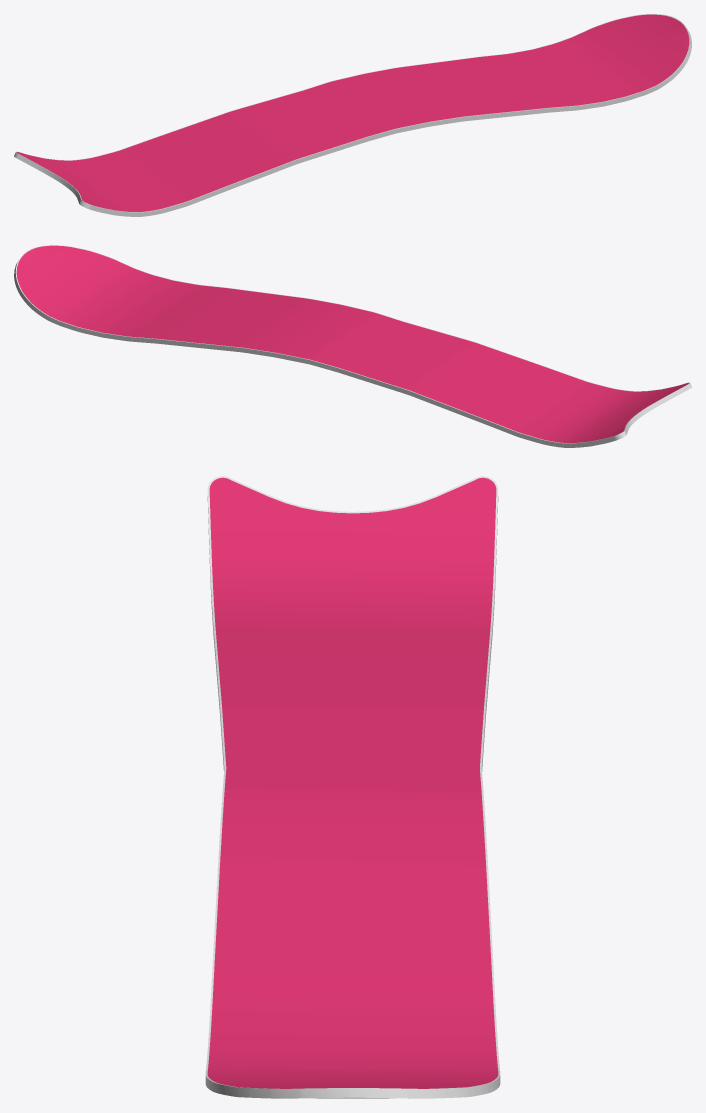
The model's file is board_directional_camber.gltf.
3 views of the same model, one above another, from view 1: azimuth 30°, elevation 25°; view 2: azimuth 150°, elevation 25°; view 3: azimuth 270°, elevation 25° (orthographic). The views are drawn at different scales.
Visible parts, largest first — view 1: board-top, board-edge; view 2: board-top, board-edge; view 3: board-top, board-edge.
Boxes of the visible parts, <box> form: board-top: <box>17,14,689,211</box>; board-edge: <box>14,14,691,216</box>; board-top: <box>16,245,688,442</box>; board-edge: <box>14,245,691,447</box>; board-top: <box>207,477,498,1088</box>; board-edge: <box>205,476,500,1098</box>.
Size of the model in its own units: 1.5 by 0.0718 by 0.3009.
